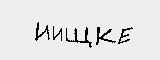Б: (118, 26, 139, 45)
Г: (37, 29, 58, 46)
З: (24, 27, 41, 46)
П: (95, 24, 115, 44)
Т: (78, 25, 94, 44)
Ұ: (56, 29, 78, 47)
